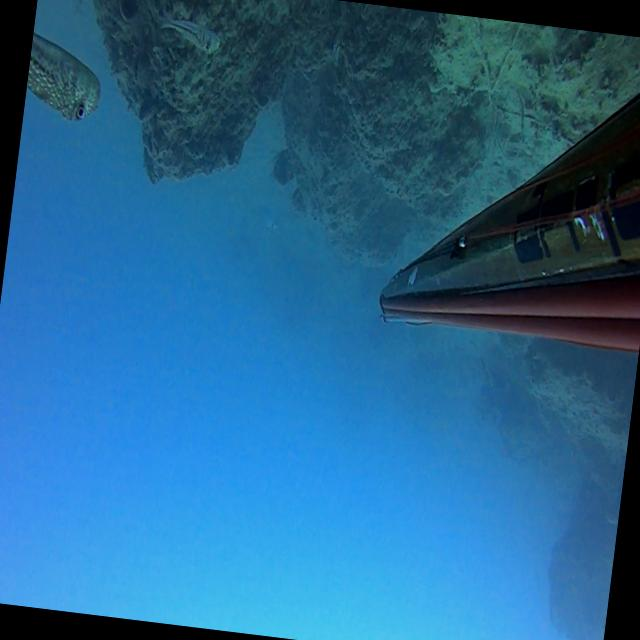Balon Baligi: (22, 33, 106, 124), (157, 12, 222, 55)
